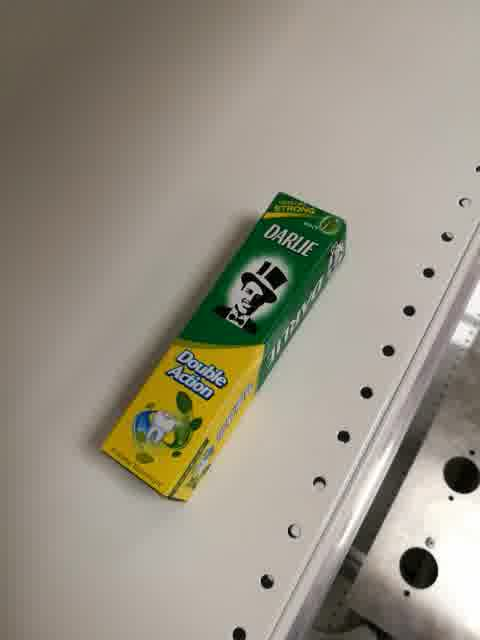toothpaste: (99, 191, 348, 505)
